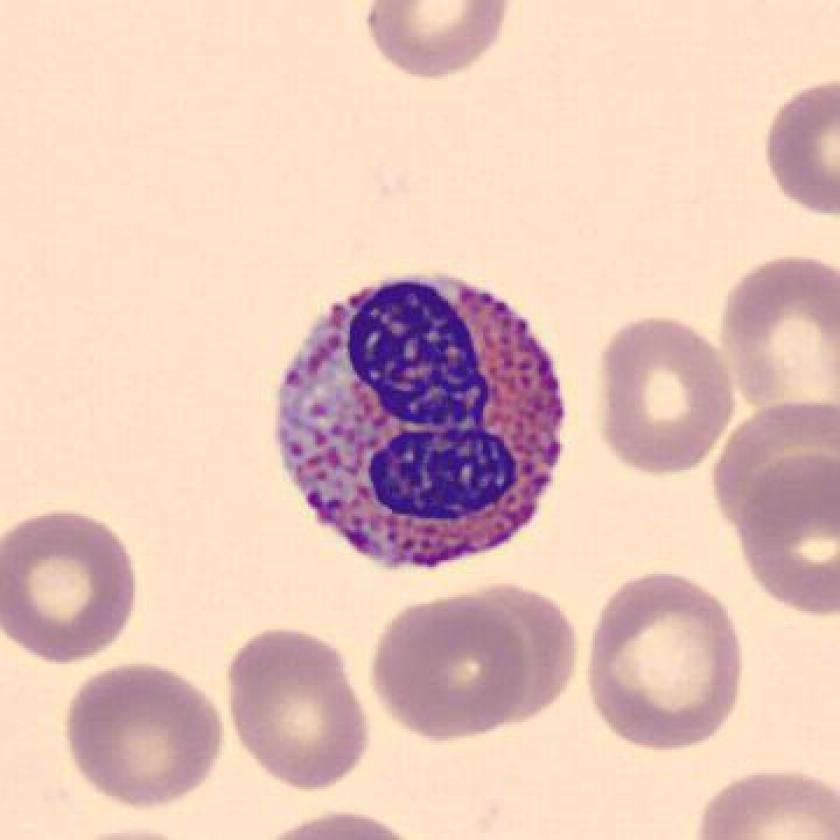eosinophil: (255, 258, 580, 579)
